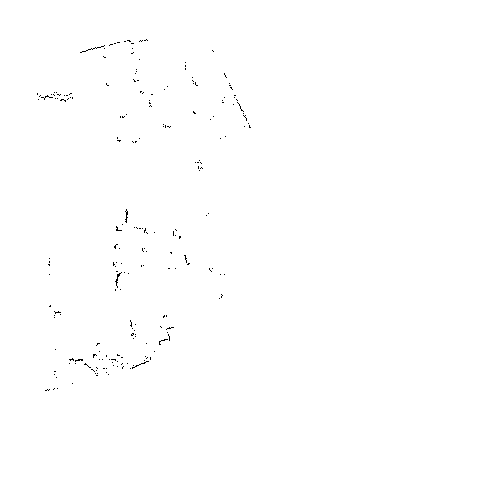pallet: (112, 225, 190, 270)
